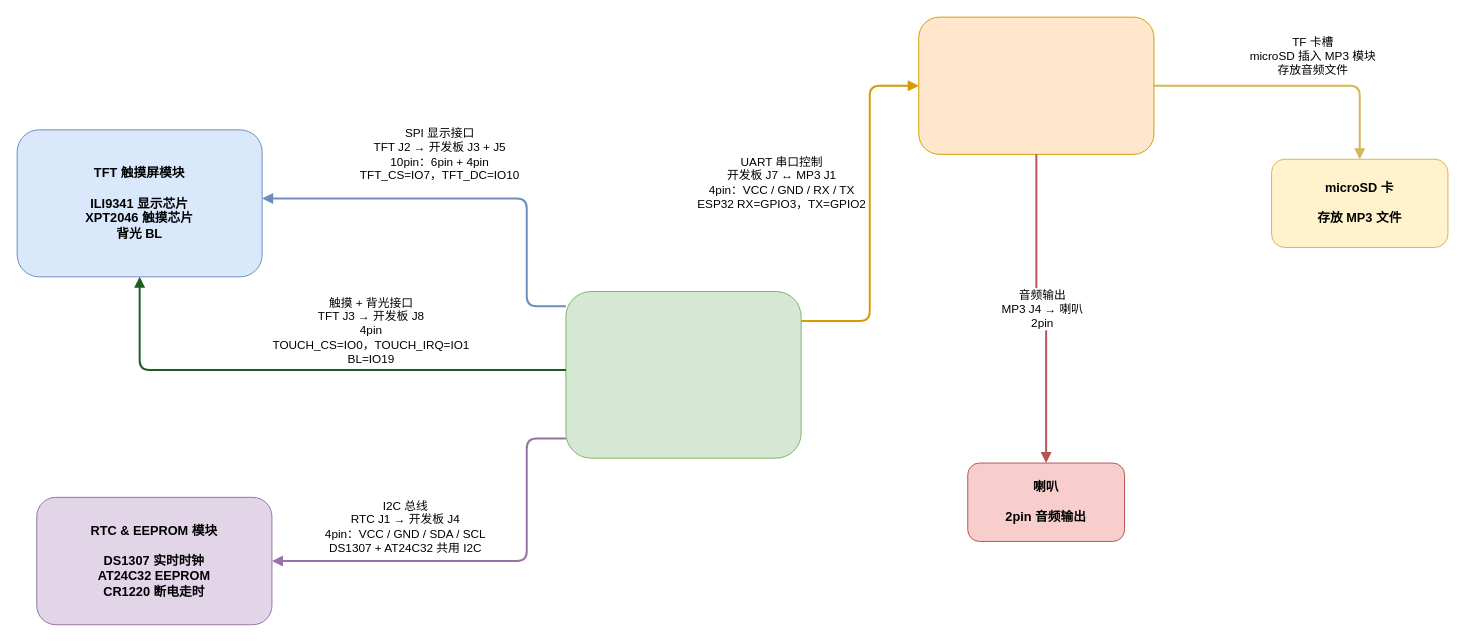
The diagram is 1465 pixels wide and 642 high, and some of its shapes have lost their labels. The shapes that lost their labels are listed below. From the top down, each one's centre as x and y in pixels, then its label:
At (1036,85): "MP3 播放模块 WT2003H / 串口控制 microSD 读取 音频解码输出".
At (683,374): "ESP32-C3 开发板 主控 MCU 负责：触摸处理 / UI显示 / MP3控制 / RTC读取".
